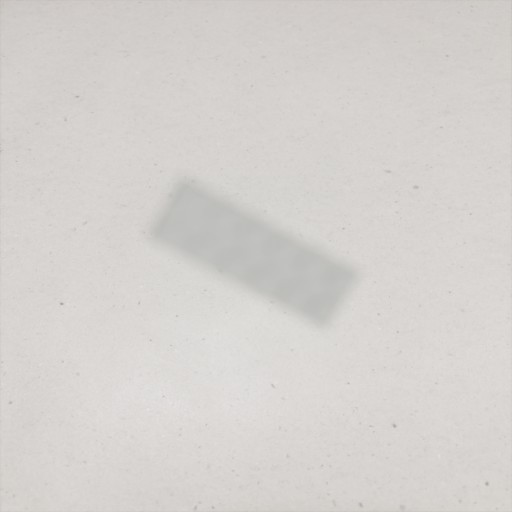lego: (145, 174, 363, 332)
